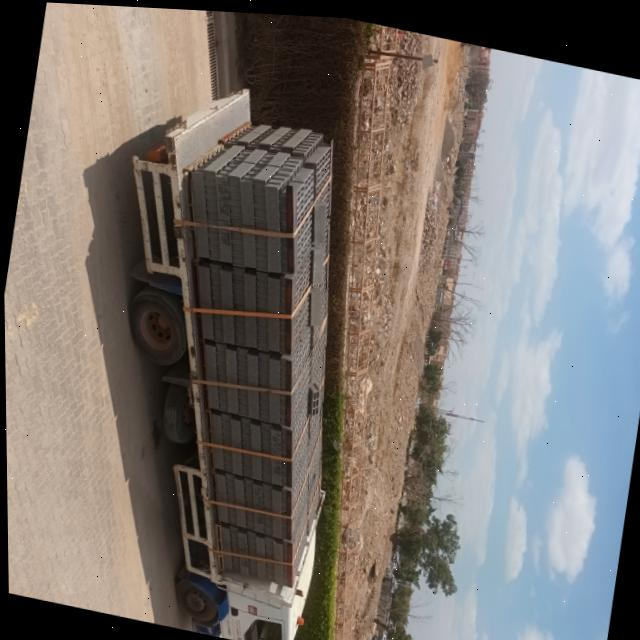bricks: (182, 126, 332, 591)
